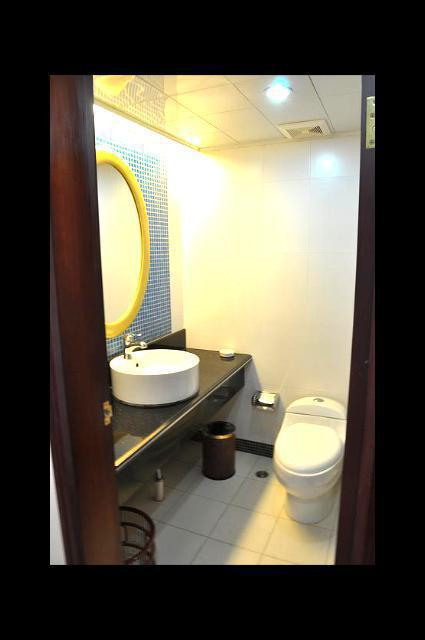Bote de Basura: (201, 419, 235, 483)
Lavamanos: (106, 329, 199, 406)
